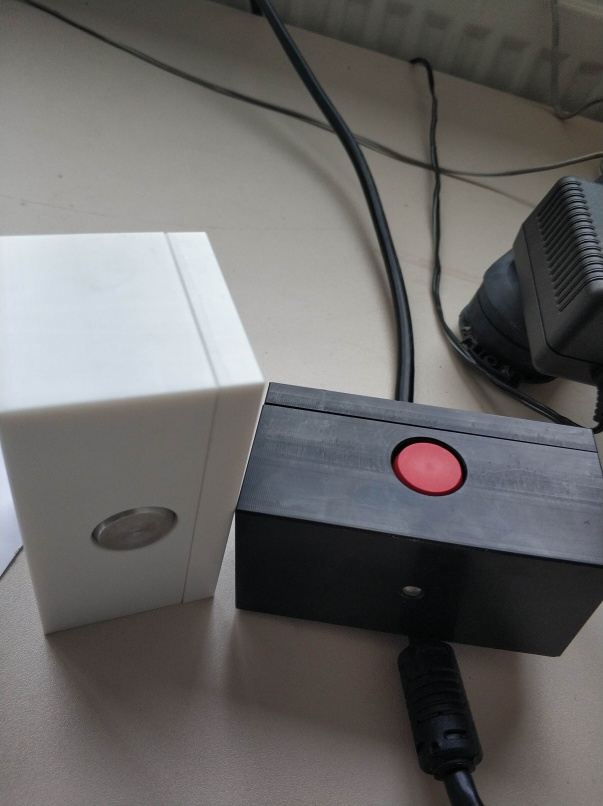black+black+red: (232, 378, 597, 658)
white+white+silver: (1, 228, 268, 637)
